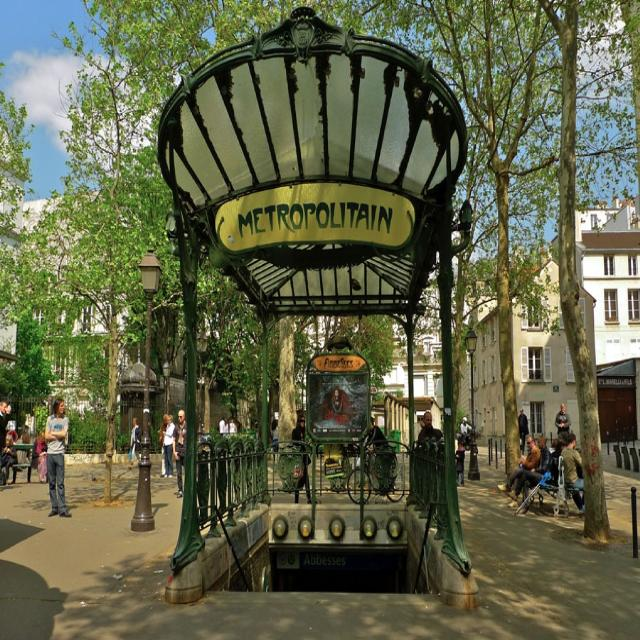body: (42, 396, 73, 518), (496, 432, 542, 508), (414, 409, 444, 517), (357, 415, 393, 496), (560, 430, 587, 517), (503, 434, 542, 494), (290, 412, 314, 504), (322, 376, 365, 426), (171, 408, 187, 500), (0, 399, 12, 490), (31, 428, 49, 485), (161, 412, 176, 478), (156, 413, 170, 479), (127, 416, 144, 470), (0, 433, 18, 482), (553, 400, 572, 440), (545, 436, 570, 463), (517, 407, 530, 457), (454, 439, 465, 488), (573, 444, 588, 479), (270, 418, 280, 461), (608, 412, 622, 442), (218, 415, 238, 434), (459, 415, 473, 437), (20, 432, 29, 464), (250, 414, 259, 434), (148, 421, 153, 450)
